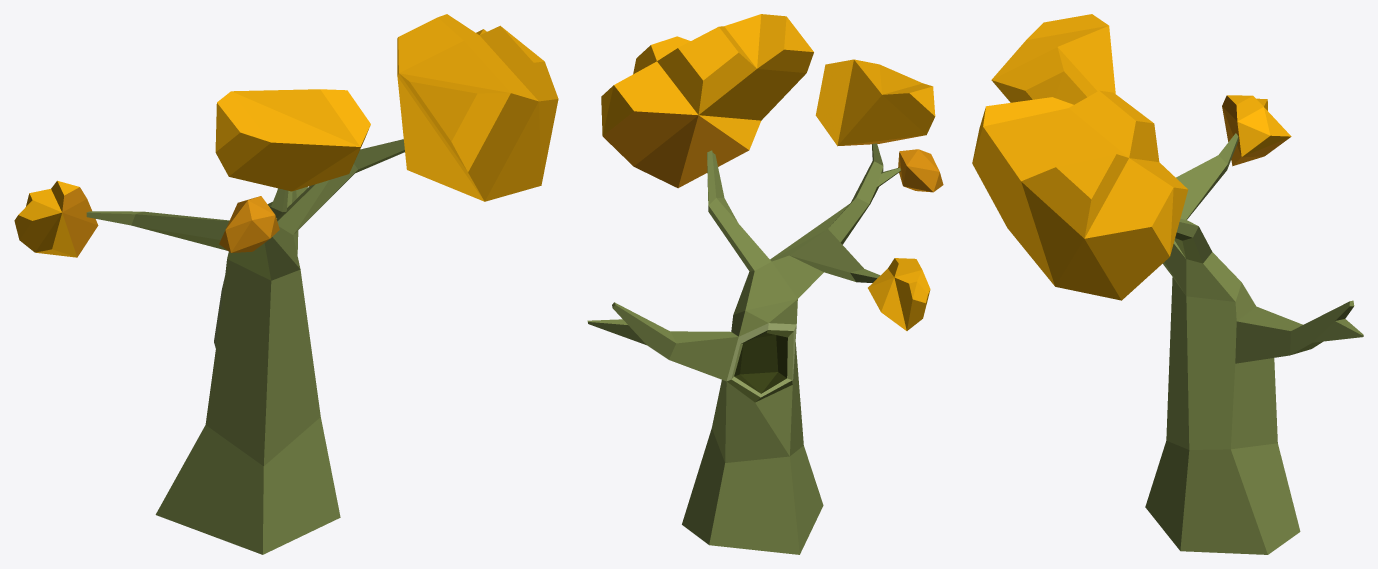
File: TreeAutumn1_Alt3.fbx
The picture shows the model from 3 angles, left to right: view 1: azimuth 30°, elevation 25°; view 2: azimuth 150°, elevation 25°; view 3: azimuth 270°, elevation 25°; orthographic projection. The views are drawn at different scales.
Visible parts, largest first — view 1: TreeAutumn1_Alt3; view 2: TreeAutumn1_Alt3; view 3: TreeAutumn1_Alt3.
Part boxes in pixels (x1=…): TreeAutumn1_Alt3: x1=14, y1=14, x2=558, y2=554; TreeAutumn1_Alt3: x1=587, y1=14, x2=943, y2=554; TreeAutumn1_Alt3: x1=972, y1=14, x2=1363, y2=554.
Size of the model in its own units: 1.78 by 1.96 by 1.44.
